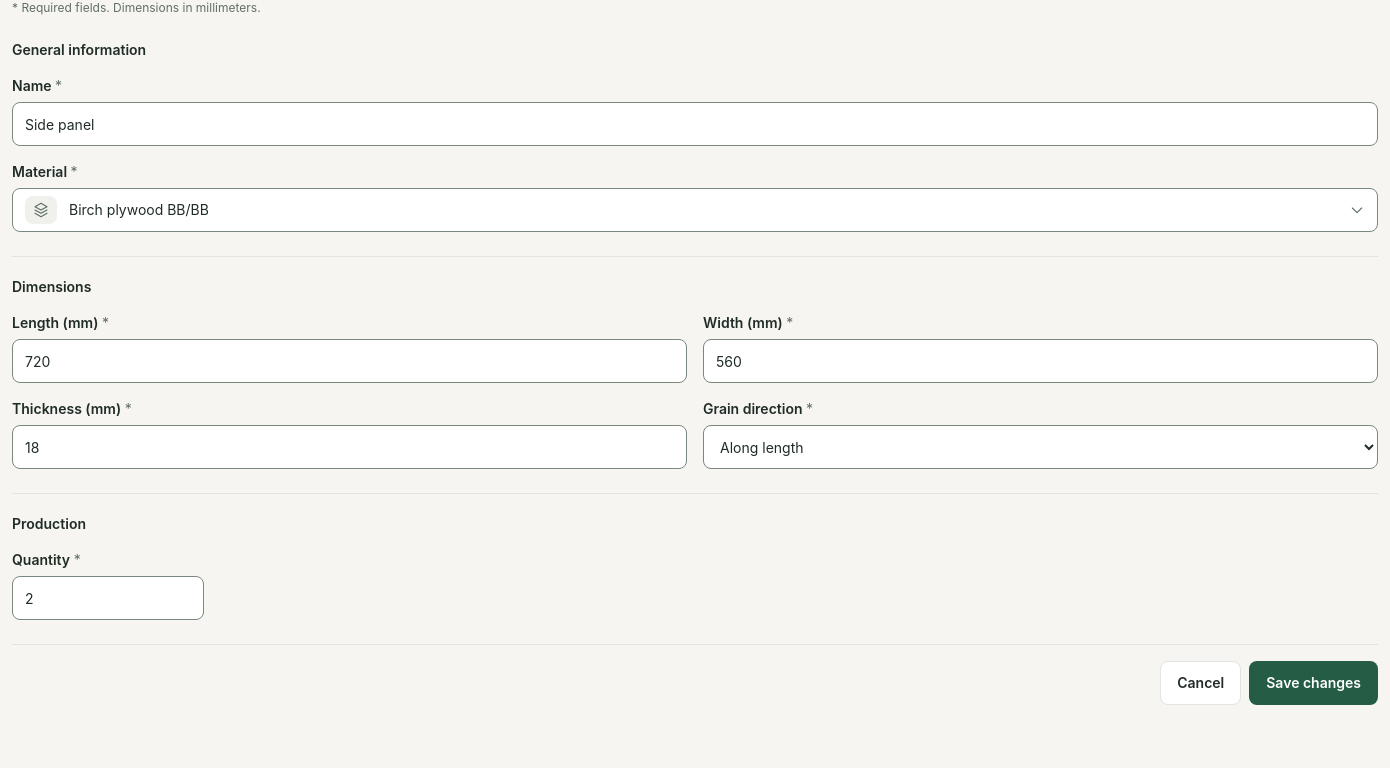
Test: Part form grain and rotation controls › keeps legacy forbidden preferences without exposing a misleading grain-constrained control
Submit the form
Select "No grain constraint" in the dropdown labelled "Grain direction *" at (1040,447), box [703,425,1378,469]
(page scrolled)
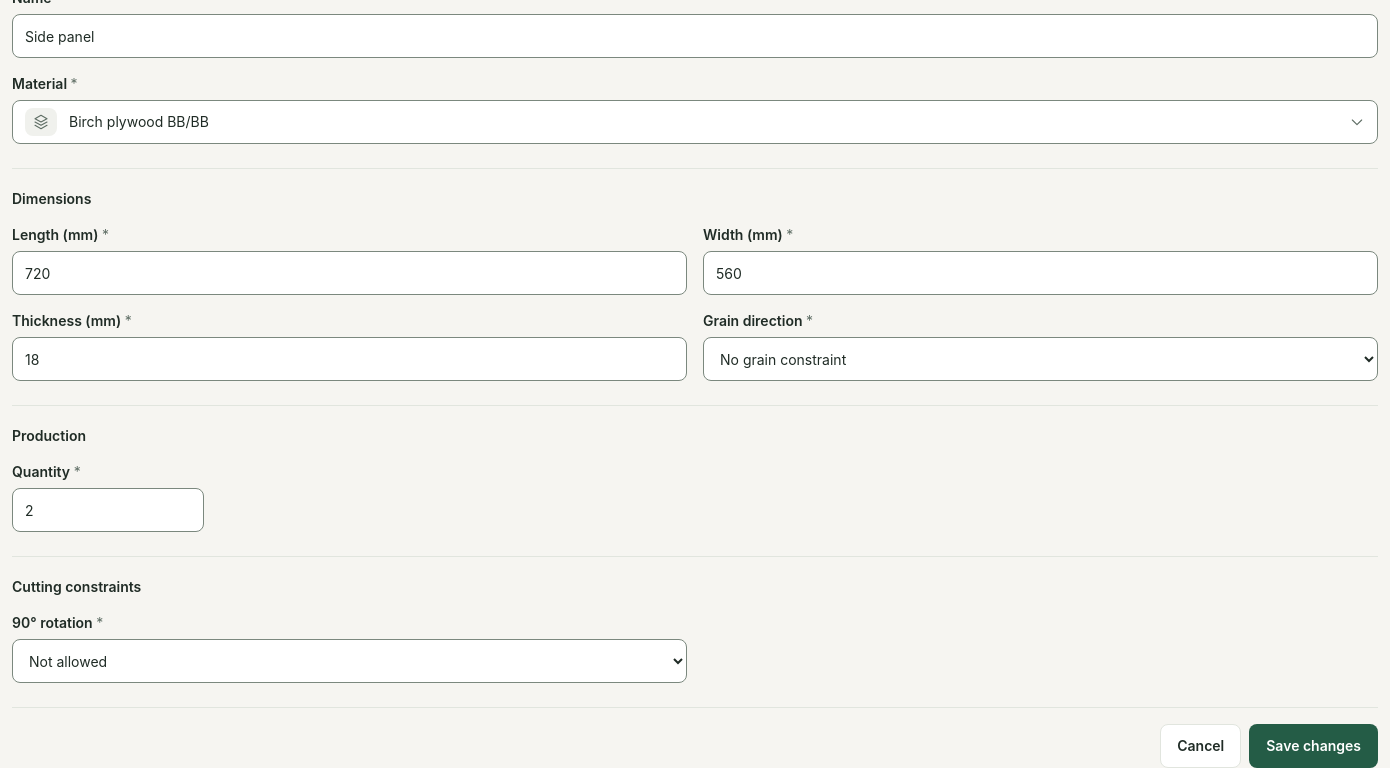
expect the dropdown labelled "90° rotation *" shows "Not allowed": met, box [12,639,687,683]
